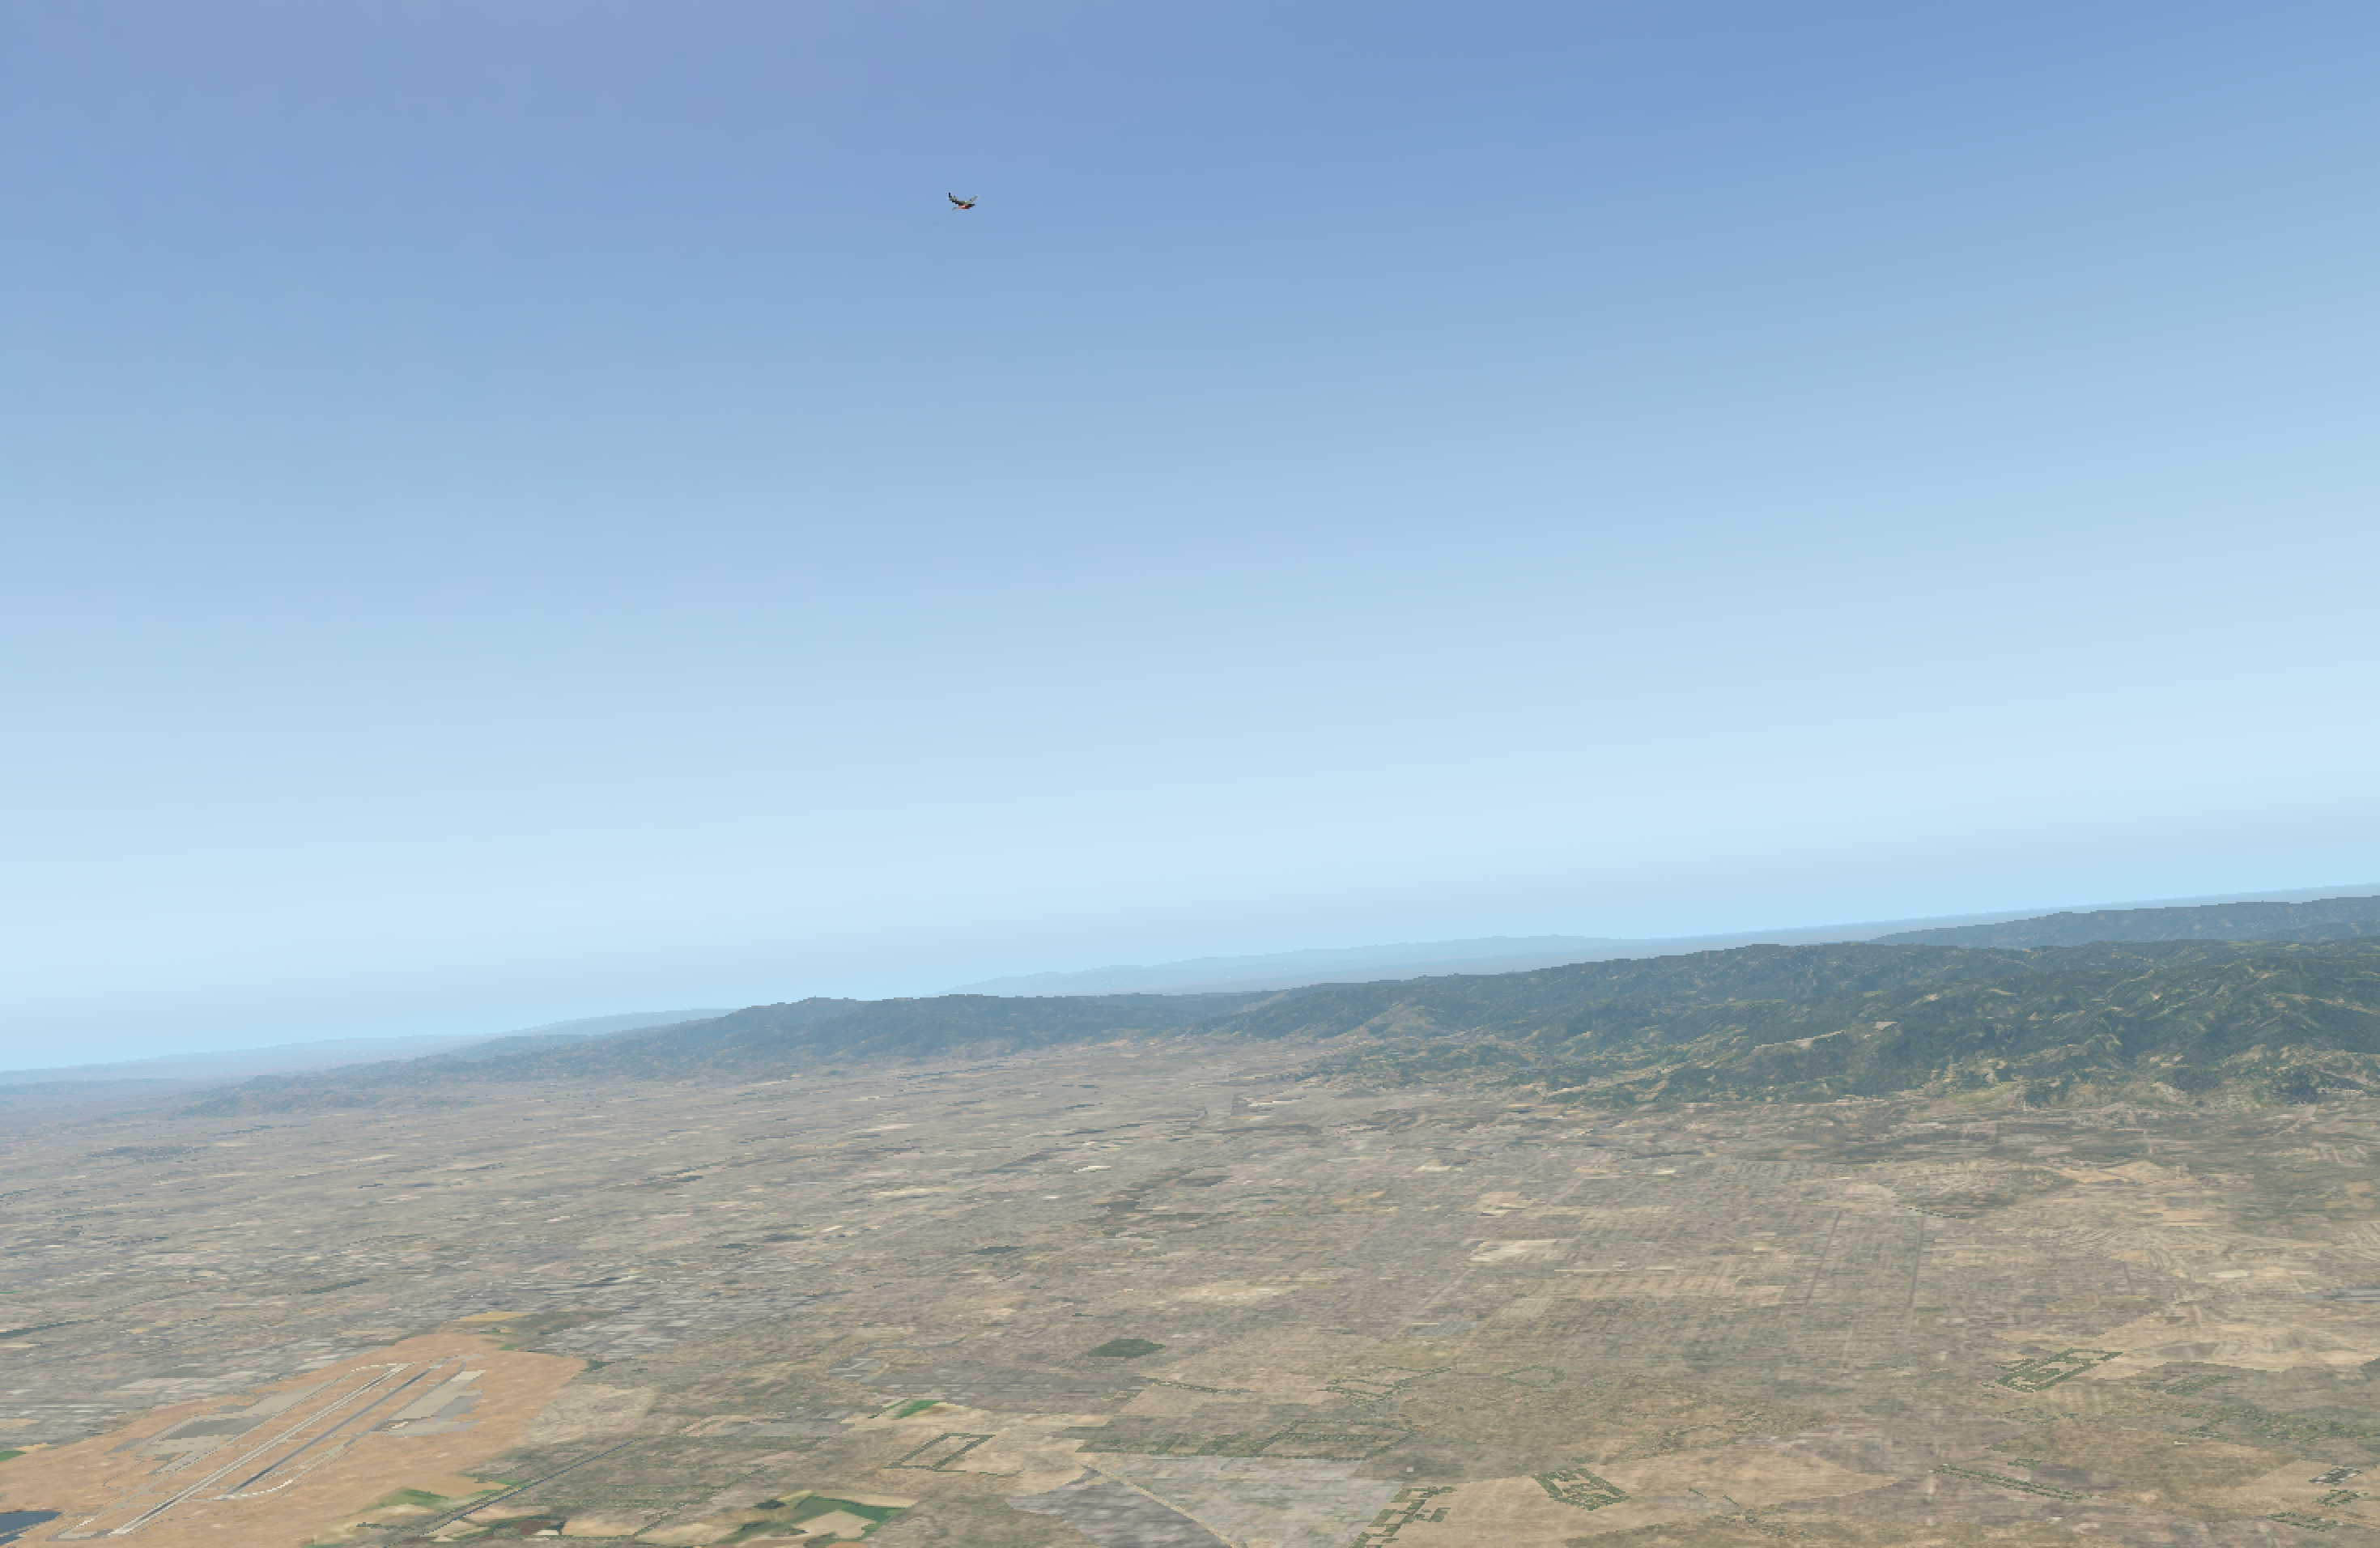aircraft: (944, 198, 987, 213)
